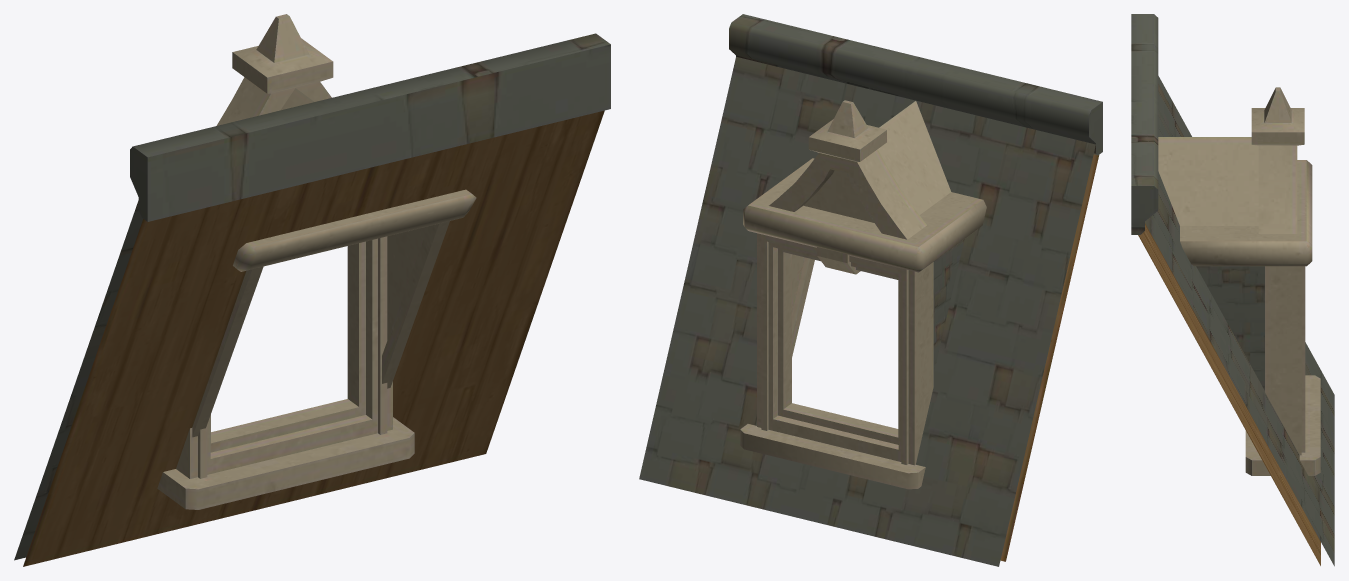
The model's file is ARC0510007.fbx.
The picture shows the model from 3 angles, left to right: view 1: azimuth 30°, elevation 25°; view 2: azimuth 150°, elevation 25°; view 3: azimuth 270°, elevation 25°; orthographic projection. The views are drawn at different scales.
Parts seen in each view (by area): view 1: smARC0510007; view 2: smARC0510007; view 3: smARC0510007.
Boxes of the visible parts, left/top/right/bottom form: smARC0510007: left=14, top=14, right=610, bottom=566; smARC0510007: left=639, top=14, right=1102, bottom=566; smARC0510007: left=1131, top=14, right=1334, bottom=566.
Size of the model in its own units: 300 by 319 by 150.
Materials: 1 (1 with a texture image).
